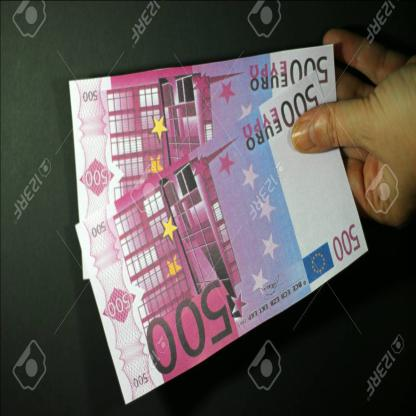euro_banknote: (54, 148, 390, 334), (71, 63, 343, 204)
